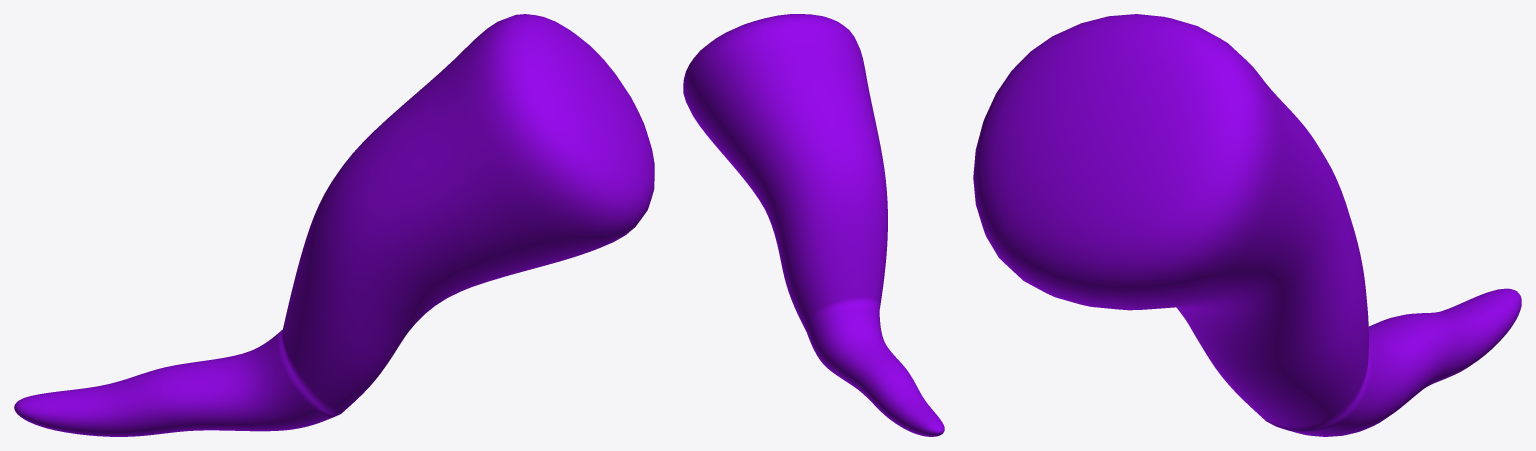
File: Tentacolo2.fbx
3 views of the same model, side by side, from view 1: azimuth 30°, elevation 25°; view 2: azimuth 150°, elevation 25°; view 3: azimuth 270°, elevation 25° (orthographic). The views are drawn at different scales.
Parts seen in each view (by area): view 1: Tentacolo.001; view 2: Tentacolo.001; view 3: Tentacolo.001.
Boxes of the visible parts, x1,y1,x2,y2 form: Tentacolo.001: (14,14,654,436); Tentacolo.001: (683,14,944,436); Tentacolo.001: (973,14,1521,436).
Size of the model in its own units: 113 by 92.13 by 87.8.
